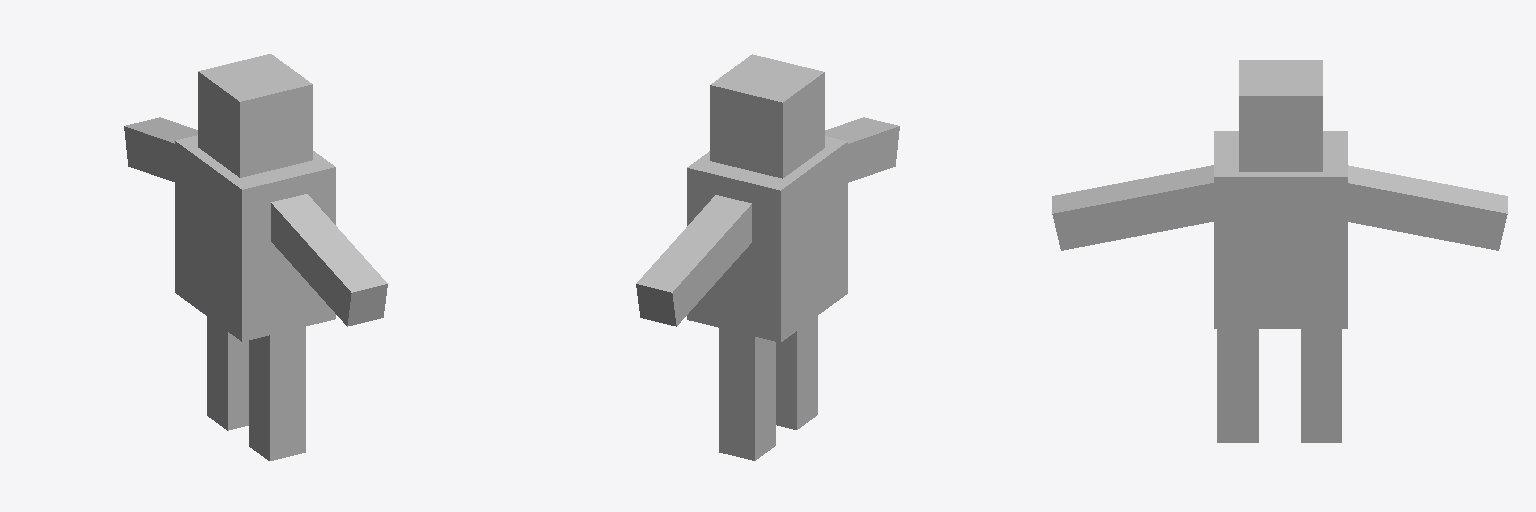
Rendered from human.obj.
3 views of the same model, side by side, from view 1: azimuth 30°, elevation 25°; view 2: azimuth 150°, elevation 25°; view 3: azimuth 270°, elevation 25° (orthographic).
Parts seen in each view (by area): view 1: Cube, Cube.002, Cube.001, Cube.005, Cube.004, Cube.003; view 2: Cube, Cube.002, Cube.003, Cube.004, Cube.005, Cube.001; view 3: Cube, Cube.002, Cube.001, Cube.003, Cube.005, Cube.004.
Boxes of the visible parts, x1,y1,x2,y2 form: Cube: [175, 135, 335, 341]; Cube.002: [198, 54, 312, 177]; Cube.001: [271, 194, 387, 326]; Cube.005: [249, 327, 305, 460]; Cube.004: [207, 317, 248, 430]; Cube.003: [124, 117, 197, 181]; Cube: [687, 136, 847, 342]; Cube.002: [710, 54, 824, 178]; Cube.003: [636, 195, 751, 326]; Cube.004: [719, 328, 775, 460]; Cube.005: [776, 316, 817, 429]; Cube.001: [825, 117, 899, 182]; Cube: [1214, 131, 1347, 328]; Cube.002: [1239, 60, 1322, 171]; Cube.001: [1052, 165, 1213, 250]; Cube.003: [1348, 165, 1507, 250]; Cube.005: [1217, 329, 1258, 442]; Cube.004: [1301, 329, 1341, 442].
Bounding box in the file's own units: 1.29 × 4.67 × 5.42.